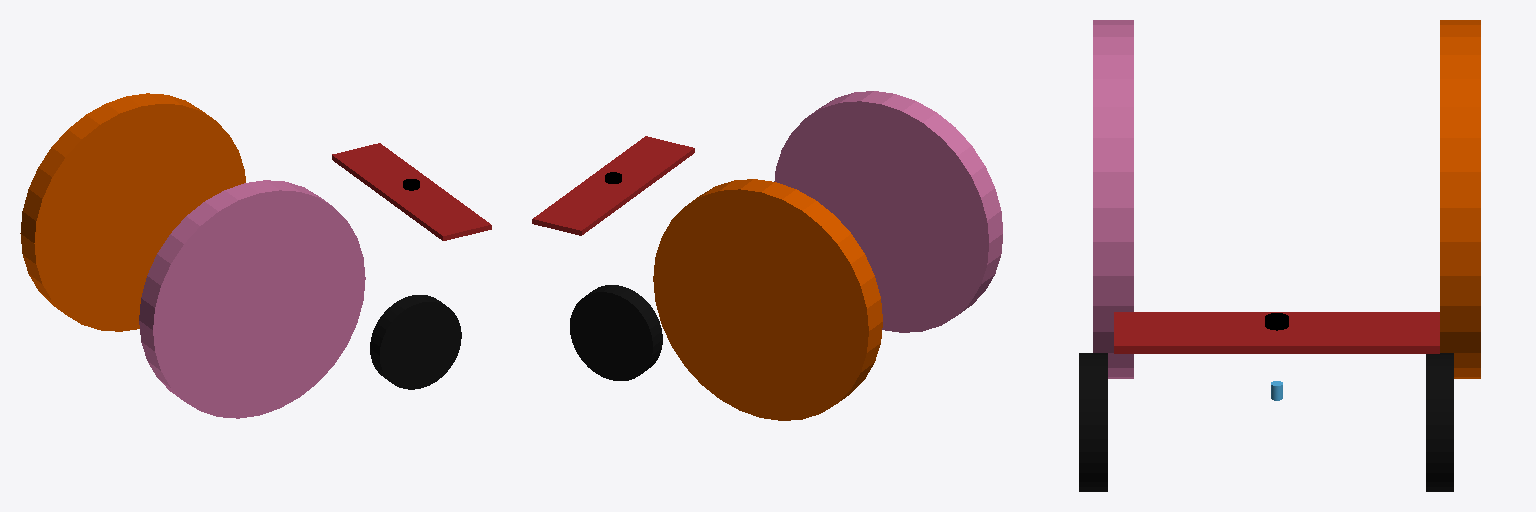
URDF robot description (wheelchair):
<?xml version="1.0"?>
<robot name="wheelchair">

  <link name="base_link">
   <!-- <visual>
      <origin xyz="0 0 0" rpy="0 0 0"/>
      <geometry>
        <box size="0.1 0.1 0.1"/>
      </geometry>
      <material name="gray">
        <color rgba="0.5 0.5 0.5 1"/>
      </material>
    </visual>
    <collision>
      <origin xyz="0 0 0" rpy="0 0 0"/>
      <geometry>
        <box size="0.1 0.1 0.1"/>
      </geometry>
    </collision>
    <inertial>
      <mass value="10.0"/> <origin xyz="0 0 0"/>
      <inertia ixx="1.0" ixy="0.0" ixz="0.0" iyy="1.0" iyz="0.0" izz="1.0"/> </inertial>-->
  </link>

  <link name="chair_link">
    <visual>
      <origin xyz="0 0 -0.7" rpy="0 0 -1.5708"/>
      <geometry>
        <mesh filename="file://[local-path]/ign_ws/wheelchair_ign/meshes/Wheelchair_v1.dae" scale="1.5 1.5 1.5"/>
      </geometry>
      <material name="black">
        <color rgba="0 0 0 1"/>
      </material>
    </visual>
    <collision>
      <origin xyz="0 0 -0.7" rpy="0 0 -1.5708"/>
      <geometry>
        <mesh filename="file://[local-path]/ign_ws/wheelchair_ign/meshes/Wheelchair_v1.dae" scale="1.5 1.5 1.5"/>
      </geometry>
    </collision>
    <inertial>
      <mass value="10.0"/>
      <origin xyz="0 0 0"/>
      <inertia ixx="0.1" ixy="0.0" ixz="0.0" iyy="0.1" iyz="0.0" izz="0.1"/>
    </inertial>
  </link>

  <link name="rectangular_box">
    <visual>
      <origin xyz="0 0 0" rpy="0 0 0"/>
      <geometry>
        <box size="0.8 0.2 0.02"/>
      </geometry>
      <material name="brown">
        <color rgba="0.65 0.16 0.16 1"/>
      </material>
    </visual>
    <collision>
      <origin xyz="0 0 0" rpy="0 0 0"/>
      <geometry>
        <box size="1 0.2 0.02"/>
      </geometry>
    </collision>
    <inertial>
      <mass value="1.0"/>
      <origin xyz="0 0 0"/>
      <inertia ixx="0.01" ixy="0.0" ixz="0.0" iyy="0.01" iyz="0.0" izz="0.01"/>
    </inertial>
  </link>


  <joint name="rectangular_box_joint" type="fixed">
    <parent link="chair_link"/>
    <child link="rectangular_box"/>
    <origin xyz="0 0.6 -0.195" rpy="0 0 0"/>
  </joint>

  <joint name="lidar_joint" type="fixed">
    <parent link="rectangular_box"/>
    <child link="rplidar_link"/>
    <origin xyz="0 0 0.02" rpy="0 0 1.5708"/>
  </joint>

  


  <link name="front_left_wheel">
    <visual>
      <origin xyz="0 0 0" rpy="1.5708 0 1.5708"/>
      <geometry>
        <cylinder radius="0.17" length="0.07"/>
      </geometry>
      <material name="black">
        <color rgba="0.1 0.1 0.1 1"/>
      </material>
    </visual>
    <collision>
      <origin xyz="0 0 0" rpy="1.5708 0 1.5708"/>
      <geometry>
        <cylinder radius="0.17" length="0.07"/>
      </geometry>
      <surface>
  <friction>
    <ode>
      <mu>0.8</mu>
      <mu2>0.8</mu2>
    </ode>
  </friction>
  <contact>
    <ode>
      <soft_cfm>0.01</soft_cfm>
      <soft_erp>0.2</soft_erp>
    </ode>
  </contact>
</surface>

    </collision>
    <inertial>
      <mass value="2.5"/>
      <origin xyz="0 0 0"/>
      <inertia ixx="0.03" ixy="0.0" ixz="0.0" iyy="0.06" iyz="0.0" izz="0.03"/>
    </inertial>
  </link>

  <link name="front_right_wheel">
    <visual>
      <origin xyz="0 0 0" rpy="1.5708 0 1.5708"/>
      <geometry>
        <cylinder radius="0.17" length="0.07"/>
      </geometry>
      <material name="black">
        <color rgba="0.1 0.1 0.1 1"/>
      </material>
    </visual>
    <collision>
      <origin xyz="0 0 0" rpy="1.5708 0 1.5708"/>
      <geometry>
        <cylinder radius="0.17" length="0.07"/>
      </geometry>
      <surface>
  <friction>
    <ode>
      <mu>0.8</mu>
      <mu2>0.8</mu2>
    </ode>
  </friction>
  <contact>
    <ode>
      <soft_cfm>0.01</soft_cfm>
      <soft_erp>0.2</soft_erp>
    </ode>
  </contact>
</surface>

    </collision>
    <inertial>
      <mass value="2.5"/>
      <origin xyz="0 0 0"/>
      <inertia ixx="0.03" ixy="0.0" ixz="0.0" iyy="0.06" iyz="0.0" izz="0.03"/>
    </inertial>
  </link>

  <link name="left_wheel">
  <visual>
    <origin xyz="0 0 0" rpy="1.5708 0 1.5708"/> <!-- Rotate 90 degrees around X-axis -->
    <geometry>
      <cylinder radius="0.44" length="0.1"/>
    </geometry>
  </visual>
  <collision>
    <origin xyz="0 0 0" rpy="1.5708 0 1.5708"/>
    <geometry>
      <cylinder radius="0.44" length="0.1"/>
    </geometry>
    <surface>
      <friction>
        <ode>
          <mu>1.5</mu>
          <mu2>1.5</mu2>
        </ode>
      </friction>
    </surface>
  </collision>
  <inertial>
    <mass value="5.0"/> <!-- Increased mass -->
    <origin xyz="0 0 0"/>
    <inertia ixx="0.1" ixy="0.0" ixz="0.0" iyy="0.2" iyz="0.0" izz="0.1"/>
  </inertial>
</link>

<link name="right_wheel">
  <visual>
    <origin xyz="0 0 0" rpy="1.5708 0 1.5708"/> <!-- Rotate 90 degrees around X-axis -->
    <geometry>
      <cylinder radius="0.44" length="0.1"/>
    </geometry>
  </visual>
  <collision>
    <origin xyz="0 0 0" rpy="1.5708 0 1.5708"/>
    <geometry>
      <cylinder radius="0.44" length="0.1"/>
    </geometry>
    <surface>
      <friction>
        <ode>
          <mu>1.5</mu>
          <mu2>1.5</mu2>
        </ode>
      </friction>
    </surface>
  </collision>
  <inertial>
    <mass value="5.0"/> <!-- Increased mass -->
    <origin xyz="0 0 0"/>
    <inertia ixx="0.1" ixy="0.0" ixz="0.0" iyy="0.2" iyz="0.0" izz="0.1"/>
  </inertial>
</link>

  <joint name="front_left_wheel_joint" type="fixed">
    <parent link="chair_link"/>
    <child link="front_left_wheel"/>
    <origin xyz="-0.4 0.358 -0.55" rpy="0 0 0"/>
    <dynamics damping="0.1" friction="0.1"/> <!-- Added for passive wheel motion -->
  </joint>

  <joint name="front_right_wheel_joint" type="fixed">
    <parent link="chair_link"/>
    <child link="front_right_wheel"/>
    <origin xyz="0.45 0.358 -0.55" rpy="0 0 0"/>
    <dynamics damping="0.1" friction="0.1"/> <!-- Added for passive wheel motion -->
  </joint>

  <joint name="left_wheel_joint" type="fixed">
    <parent link="chair_link"/>
    <child link="left_wheel"/>
    <origin xyz="-0.45 -0.29 -0.25" rpy="0 0 0"/>
    <axis xyz="1 0 0"/>
    <dynamics damping="0.1" friction="0.1"/> <!-- Added for passive wheel motion -->
  </joint>

  <joint name="right_wheel_joint" type="fixed">
    <parent link="chair_link"/>
    <child link="right_wheel"/>
    <origin xyz="0.4 -0.29 -0.25" rpy="0 0 0"/>
    <axis xyz="1 0 0"/>
    <dynamics damping="0.1" friction="0.1"/> <!-- Added for passive wheel motion -->
  </joint>

  <joint name="chair_link_joint" type="fixed">
    <parent link="base_link"/>
    <child link="chair_link"/>
    <origin xyz="0 0 0.7" rpy="0 0 -1.5708"/>
  </joint>


  <link name="rplidar_link">
    <visual>
      <origin xyz="0 0 0" rpy="0 0 0"/>
      <geometry>
        <mesh filename="file://[local-path]/rania_ws/wheelchair/meshes/rplidar_a2.dae" scale="1.5 1.5 1.5"/>
      </geometry>
      <material name="blue">
        <color rgba="0 0 1 1"/>
      </material>
    </visual>
    <collision>
      <origin xyz="0 0 0" rpy="0 0 0"/>
      <geometry>
        <mesh filename="file://[local-path]/rania_ws/wheelchair/meshes/rplidar_a2.dae" scale="1.5 1.5 1.5"/>
      </geometry>
    </collision>
    <inertial>
      <mass value="0.5"/>
      <origin xyz="0 0 0"/>
      <inertia ixx="0.01" ixy="0.0" ixz="0.0" iyy="0.01" iyz="0.0" izz="0.01"/>
    </inertial>
  </link>

  

  <!-- Added GPS Link -->
  <link name="gps_link">
    <visual>
      <origin xyz="0 0 0" rpy="0 0 0"/>
      <geometry>
        <cylinder radius="0.03" length="0.02"/>  Approximate Garmin GPS18x dimensions 
      </geometry>
      <material name="black">
        <color rgba="0 0 0 1"/>
      </material>
    </visual>
    <collision>
      <origin xyz="0 0 0" rpy="0 0 0"/>
      <geometry>
        <cylinder radius="0.03" length="0.02"/>
      </geometry>
    </collision>
    <inertial>
      <mass value="0.1"/>
      <origin xyz="0 0 0"/>
      <inertia ixx="0.0001" ixy="0.0" ixz="0.0" iyy="0.0001" iyz="0.0" izz="0.0001"/>
    </inertial>
  </link>

 
  <joint name="gps_joint" type="fixed">
    <parent link="rectangular_box"/>
    <child link="gps_link"/>
    <origin xyz="0 0 0.03" rpy="0 0 0"/> 
  </joint>

  <!-- IMU Sensor -->
  <link name="imu_link">
    <visual>
      <geometry>
        <cylinder radius="0.015" length="0.04"/>
      </geometry>
      <material name="red"/>
    </visual>
  </link>

  <joint name="imu_joint" type="fixed">
    <parent link="base_link"/>
    <child link="imu_link"/>
    <origin xyz="0.0 0 0.068" rpy="0 0 0"/>
  </joint>


  



  <gazebo reference="base_link">
    <material>Gazebo/Gray</material>
  </gazebo>

  <gazebo reference="chair_link">
    <material>Gazebo/Black</material>
  </gazebo>

  <gazebo reference="left_wheel">
  <mu1>1.5</mu1> <!-- Increase friction coefficient -->
  <mu2>1.5</mu2>
  <kp>1000000.0</kp> <!-- Contact stiffness -->
  <kd>1.0</kd> <!-- Contact damping -->
</gazebo>

<gazebo reference="right_wheel">
  <mu1>1.5</mu1>
  <mu2>1.5</mu2>
  <kp>1000000.0</kp>
  <kd>1.0</kd>
</gazebo>
 
  <gazebo reference="rplidar_link">
        <sensor name="lidar_sensor" type="gpu_lidar">
            <update_rate>10</update_rate>
            <topic>/scan</topic>
            <frame>rplidar_link</frame>
            <lidar>
                <scan>
                    <horizontal>
                        <samples>720</samples>
                        <resolution>1</resolution>
                        <min_angle>-3.14156</min_angle>
                        <max_angle>3.14156</max_angle>
                    </horizontal>
                </scan>
                <range>
                    <min>0.05</min>
                    <max>10.0</max>
                    <resolution>0.01</resolution>
                </range>
                <noise>
                    <type>gaussian</type>
                    <mean>0.0</mean>
                    <stddev>0.01</stddev>
                </noise>
            </lidar>
            <always_on>true</always_on>
            <visualize>true</visualize>
        </sensor>
        </gazebo>
<!--
        <sensor name="rplidar" type="gpu_lidar">
            <pose>0 0 0 0 0 1.57</pose>
            <update_rate>10</update_rate>
            <topic>/scan_in_camera_frame</topic>
            <frame_id>rplidar_link</frame_id>
            <lidar>
                <scan>
                    <horizontal>
                        <samples>720</samples>
                        <resolution>1</resolution>
                        <min_angle>-0.733038286</min_angle>
                        <max_angle>0.733038286</max_angle>
                    </horizontal>
                </scan>
                <range>
                    <min>0.05</min>
                    <max>10.0</max>
                    <resolution>0.01</resolution>
                </range>
                <noise>
                    <type>gaussian</type>
                    <mean>0.0</mean>
                    <stddev>0.01</stddev>
                </noise>
            </lidar>
            <always_on>true</always_on>
            <visualize>true</visualize>
        </sensor>
        
  <sensor type="gpu_lidar" name="rplidar">
    <pose>0 0 0 0 0 1.57</pose>
    <visualize>true</visualize>
    <lidar>
                <scan>
                    <horizontal>
                        <samples>720</samples>
                        <resolution>1</resolution>
                        <min_angle>-0.733038286</min_angle>
                        <max_angle>0.733038286</max_angle>
                    </horizontal>
                </scan>
                <range>
                    <min>0.05</min>
                    <max>10.0</max>
                    <resolution>0.01</resolution>
                </range>
                <noise>
                    <type>gaussian</type>
                    <mean>0.0</mean>
                    <stddev>0.01</stddev>
                </noise>
            </lidar>
            
      <topic>/scan_in_camera_frame</topic>
      <frame_id>rectangular_box</frame_id>
  </sensor> 
 -->


<!--
<gazebo reference="gps_link">
<sensor name="gps_sensor" type="navsat">
          <always_on>true</always_on>
          <update_rate>10</update_rate>
          <topic>/gps/fix</topic>
          <plugin filename="ignition-gazebo-navsat-system" 
                name="ignition::gazebo::systems::NavSat"/>
            <horizontal>
              <noise type="gaussian">
                <mean>0.0</mean>
                <stddev>2.0</stddev>
              </noise>
            </horizontal>
            <vertical>
              <noise type="gaussian">
                <mean>0.0</mean>
                <stddev>3.0</stddev>
              </noise>
            </vertical>
          </plugin>
        </sensor>
</gazebo>

-->
<gazebo reference="gps_link">
<sensor name="navsat" type="navsat">
<pose>0 0 0 0 0 0</pose>
<update_rate>5</update_rate>
<topic>/gps/fix</topic>
<frame>gps_link</frame>
<navsat>
<position_noise>
<type>gaussian</type>
<mean>0.0</mean>
<stddev>2.0</stddev>
</position_noise>
<velocity_noise>
<type>gaussian</type>
<mean>0.0</mean>
<stddev>4.0</stddev>
</velocity_noise>
</navsat>
<always_on>true</always_on>
<visualize>true</visualize>
</sensor>
</gazebo>

<gazebo reference="imu_link">
  <sensor name="imu_sensor" type="imu">
    <always_on>1</always_on>
    <update_rate>1</update_rate>
    <visualize>true</visualize>
    <topic>imu</topic>
</sensor>

  </gazebo>

  <!-- Gazebo Plugins -->
  <gazebo>
  <plugin filename="libignition-gazebo-diff-drive-system.so" name="ignition::gazebo::systems::DiffDrive">
    <left_joint>left_wheel_joint</left_joint>
    <right_joint>right_wheel_joint</right_joint>
    <wheel_separation>0.9</wheel_separation> <!-- Distance between wheels -->
    <wheel_radius>0.44</wheel_radius> <!-- Radius of the wheels -->
    <max_linear_velocity>2.5</max_linear_velocity> <!-- Max forward speed (m/s) -->
    <max_angular_velocity>1.0</max_angular_velocity>
    <topic>/cmd_vel</topic> <!-- Topic to subscribe to for velocity commands -->
    <odom_topic>/odom</odom_topic>
    <odom_frame>odom</odom_frame> 
    <robot_base_frame>base_link</robot_base_frame>
    <publish_odom>true</publish_odom>
    <publish_joint_states>true</publish_joint_states>
    <publish_tf>true</publish_tf>
    <min_velocity>-2.0</min_velocity>
    <max_velocity>2.0</max_velocity>
    <min_acceleration>-10.0</min_acceleration> 
    <max_acceleration>10.0</max_acceleration>
  </plugin>

  <plugin filename="libignition-gazebo-odometry-publisher-system.so" name="ignition::gazebo::systems::OdometryPublisher">
  <odometry_topic>/odom</odometry_topic> 
  <tf_topic>tf</tf_topic>
  <robot_base_frame>base_link</robot_base_frame>

</plugin>
<!-- World control -->
<plugin filename="WorldControl" name="World control">
    <ignition-gui>
        <title>World control</title>
        <property type="bool" key="showTitleBar">false</property>
        <property type="bool" key="resizable">false</property>
        <property type="double" key="height">72</property>
        <property type="double" key="width">121</property>
        <property type="double" key="z">1</property>

        <property type="string" key="state">floating</property>
        <anchors target="3D View">
        <line own="left" target="left"/>
        <line own="bottom" target="bottom"/>
        </anchors>
    </ignition-gui>

    <play_pause>true</play_pause>
    <step>true</step>
    <start_paused>true</start_paused>
    <service>/world/world_demo/control</service>
    <stats_topic>/world/world_demo/stats</stats_topic>
</plugin>

<plugin filename="libignition-gazebo-sensors-system.so" name="ignition::gazebo::systems::Sensors">
  <render_engine>ogre2</render_engine>
</plugin>

<plugin filename="libignition-gazebo-joint-state-publisher-system.so" name="ignition::gazebo::systems::JointStatePublisher">
        </plugin>
        <plugin
        filename="libignition-gazebo-scene-broadcaster-system.so"
        name="gz::sim::systems::SceneBroadcaster">
        </plugin>
        <plugin
        filename="libignition-gazebo-user-commands-system.so"
        name="gz::sim::systems::UserCommands">
        </plugin>
      <plugin filename="libignition-gazebo-velocity-control-system.so"
        name="ignition::gazebo::systems::VelocityControl">
        <topic>cmd_vel</topic>
      </plugin>

      <plugin filename="ignition-gazebo-navsat-system" 
                name="ignition::gazebo::systems::NavSat">
                <topic>/gps/fix</topic>
      </plugin>

      <plugin filename="libignition-gazebo-imu-system.so"
        name="ignition::gazebo::systems::Imu">
</plugin>


</gazebo>




</robot>

--- What the picture shows (computed from the rendered views, not written in the file) ---
The picture shows the robot from 3 angles, left to right: view 1: azimuth 30°, elevation 25°; view 2: azimuth 150°, elevation 25°; view 3: azimuth 270°, elevation 25°; orthographic projection.
Robot: wheelchair — 10 links, 9 joints (9 fixed); root link base_link; default pose: every joint at zero.
Visible links, largest first — view 1: right_wheel, left_wheel, front_right_wheel, rectangular_box; view 2: left_wheel, right_wheel, front_left_wheel, rectangular_box; view 3: left_wheel, right_wheel, rectangular_box, front_right_wheel, front_left_wheel.
Link boxes in pixels (x1,y1,x2,y2): right_wheel: (139, 180, 365, 418); left_wheel: (20, 93, 245, 331); front_right_wheel: (370, 295, 461, 389); rectangular_box: (332, 143, 491, 240); left_wheel: (653, 179, 882, 420); right_wheel: (774, 91, 1002, 332); front_left_wheel: (570, 285, 662, 380); rectangular_box: (532, 136, 694, 235); left_wheel: (1440, 20, 1480, 378); right_wheel: (1093, 20, 1133, 378); rectangular_box: (1114, 312, 1439, 353); front_right_wheel: (1079, 353, 1107, 491); front_left_wheel: (1426, 353, 1453, 491).
Bounding box of the posed robot: 1.43 × 0.985 × 0.91 m (x, y, z).
Geometry: only primitive shapes (box / cylinder / sphere) drawn; not drawn: 2 mesh visuals (reference in a form the renderer does not follow).